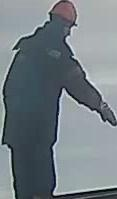gloves: (92, 97, 117, 129)
helmet: (47, 0, 78, 27)
vest: (3, 36, 76, 151)
